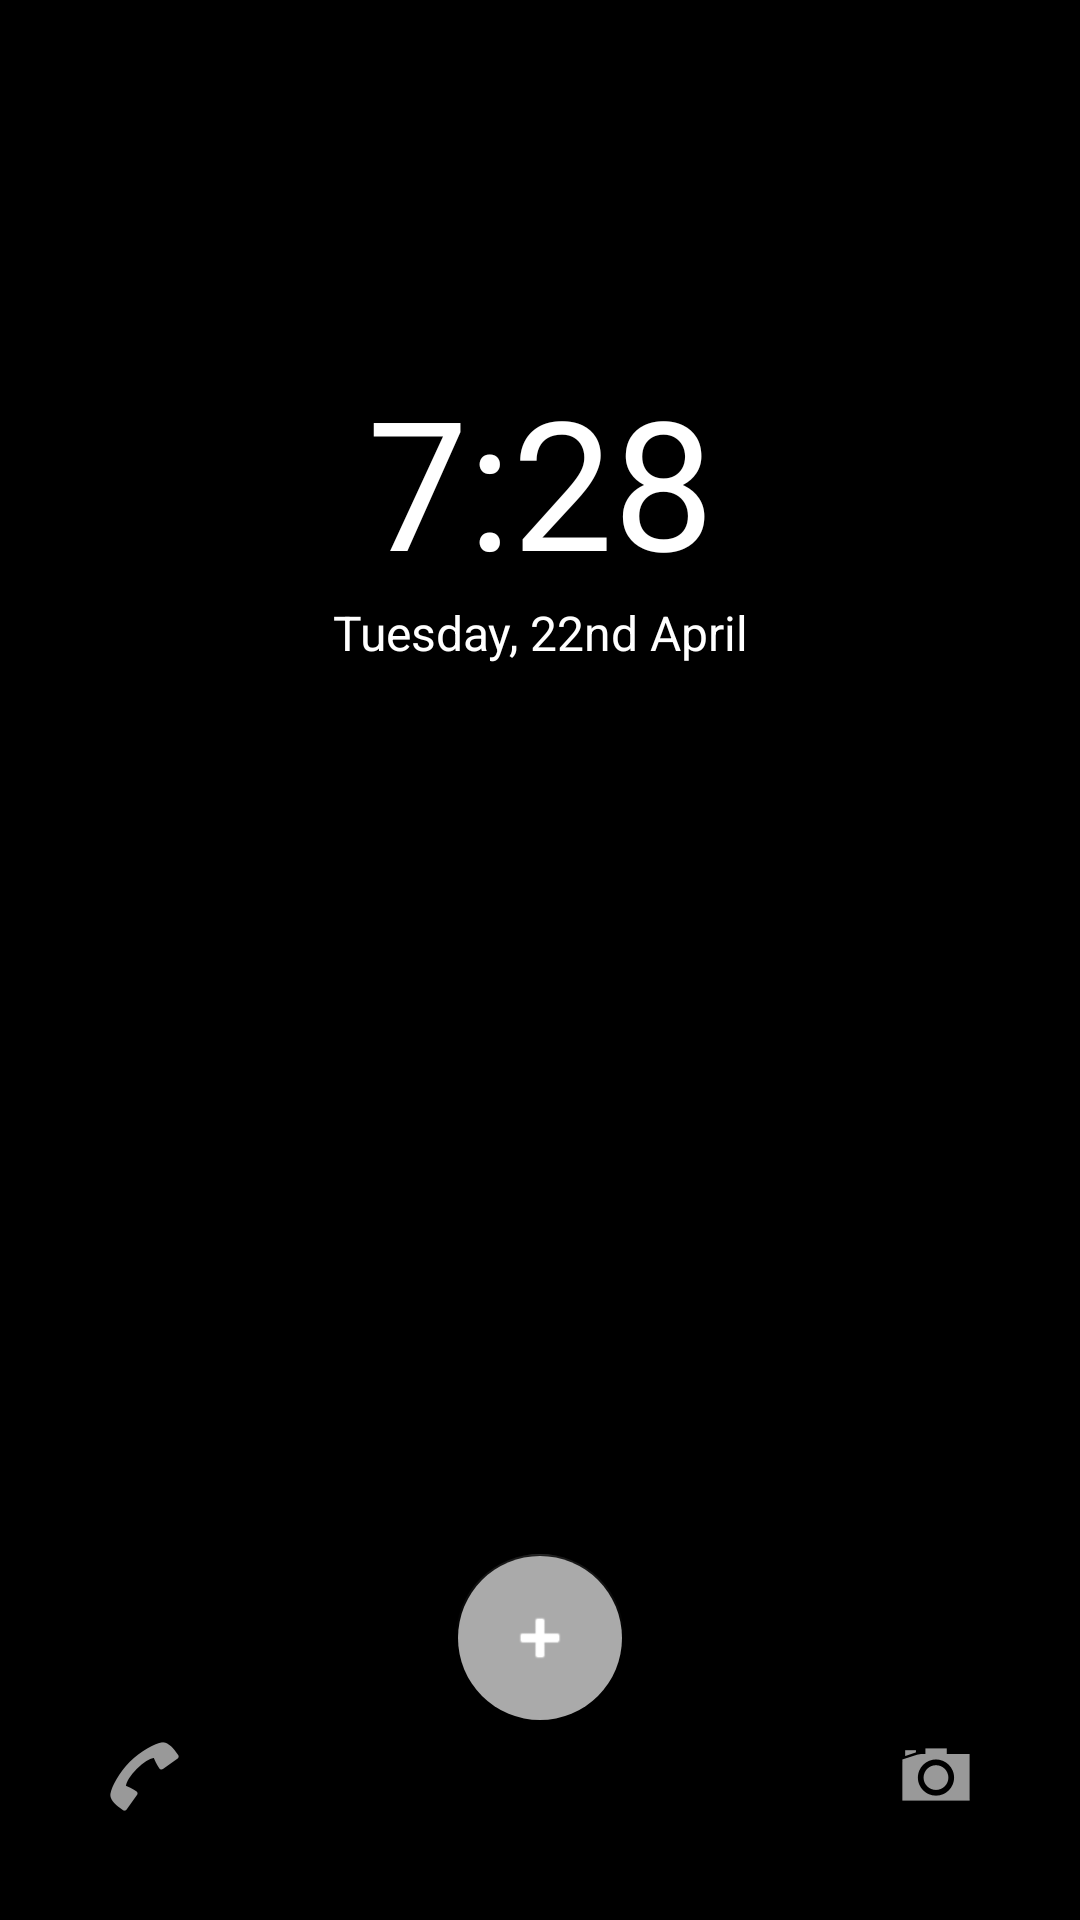

Icons on this 1080x1920 Android screen, each with its box as [x1, y1, x2, y2]:
Add new app: [458, 1554, 622, 1720]
Camera: [902, 1748, 970, 1801]
Phone: [110, 1742, 179, 1811]
